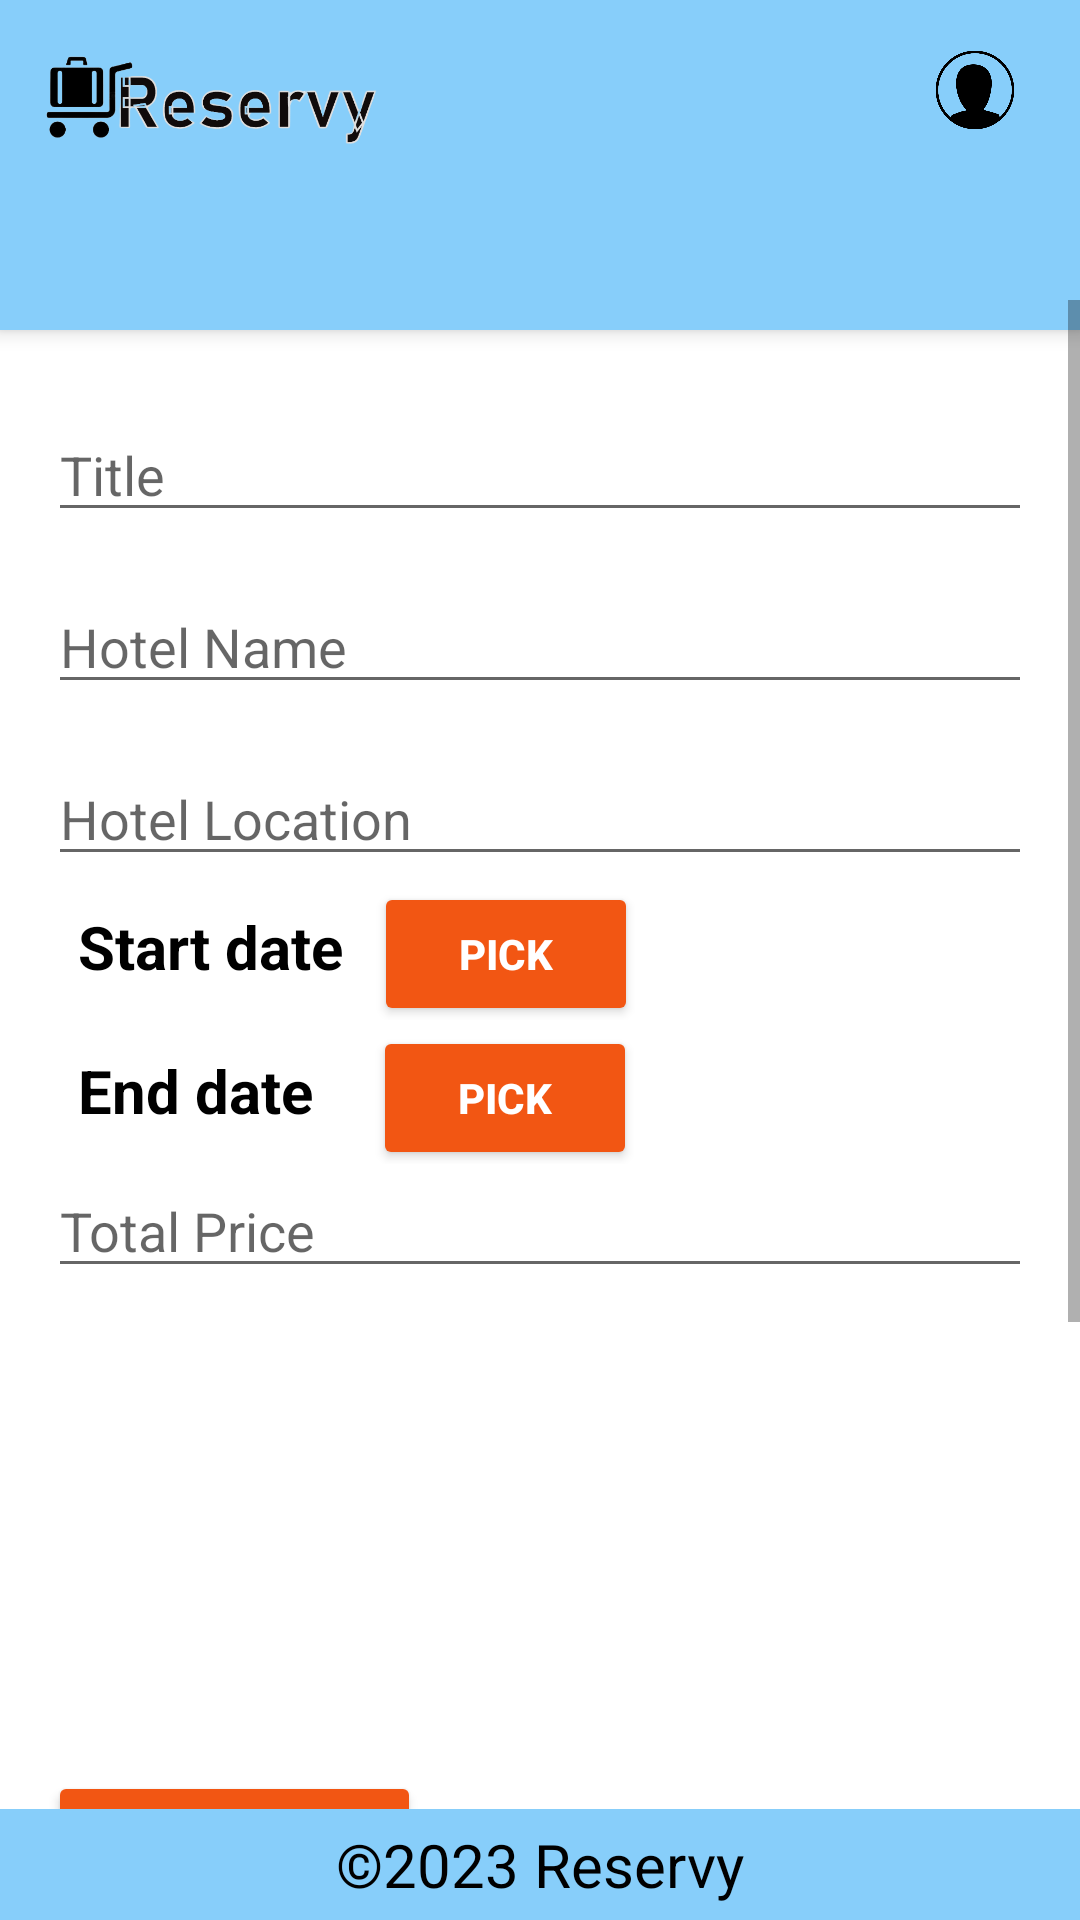

Icon bounding boxes for this 1080 x 1920 phone screenshot, format (x1, y1, x2, y2):
person: (936, 51, 1014, 129)
